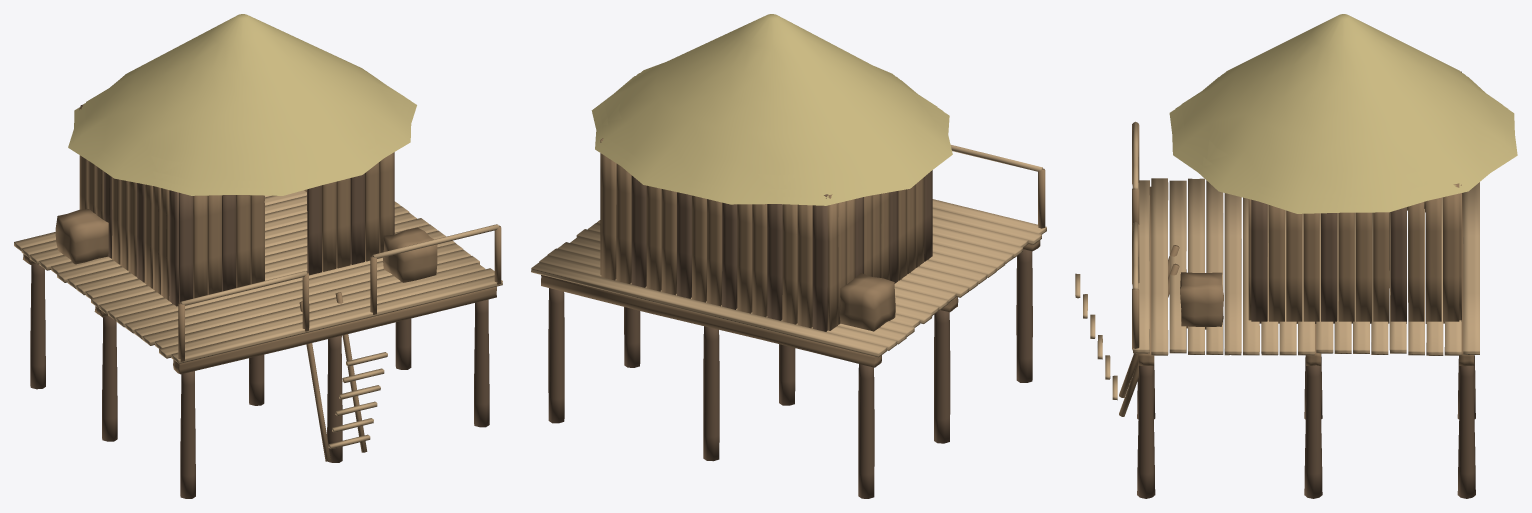
Rendered from poi_stilt_outpost.glb.
3 views of the same model, side by side, from view 1: azimuth 30°, elevation 25°; view 2: azimuth 150°, elevation 25°; view 3: azimuth 270°, elevation 25° (orthographic). The views are drawn at different scales.
Visible parts, largest first — view 1: poi_stilt_outpost; view 2: poi_stilt_outpost; view 3: poi_stilt_outpost.
Part boxes in pixels (x1=…): poi_stilt_outpost: x1=14, y1=14, x2=502, y2=498; poi_stilt_outpost: x1=531, y1=14, x2=1046, y2=498; poi_stilt_outpost: x1=1075, y1=14, x2=1517, y2=498.
Size of the model in its own units: 5.89 by 6.36 by 6.35.
